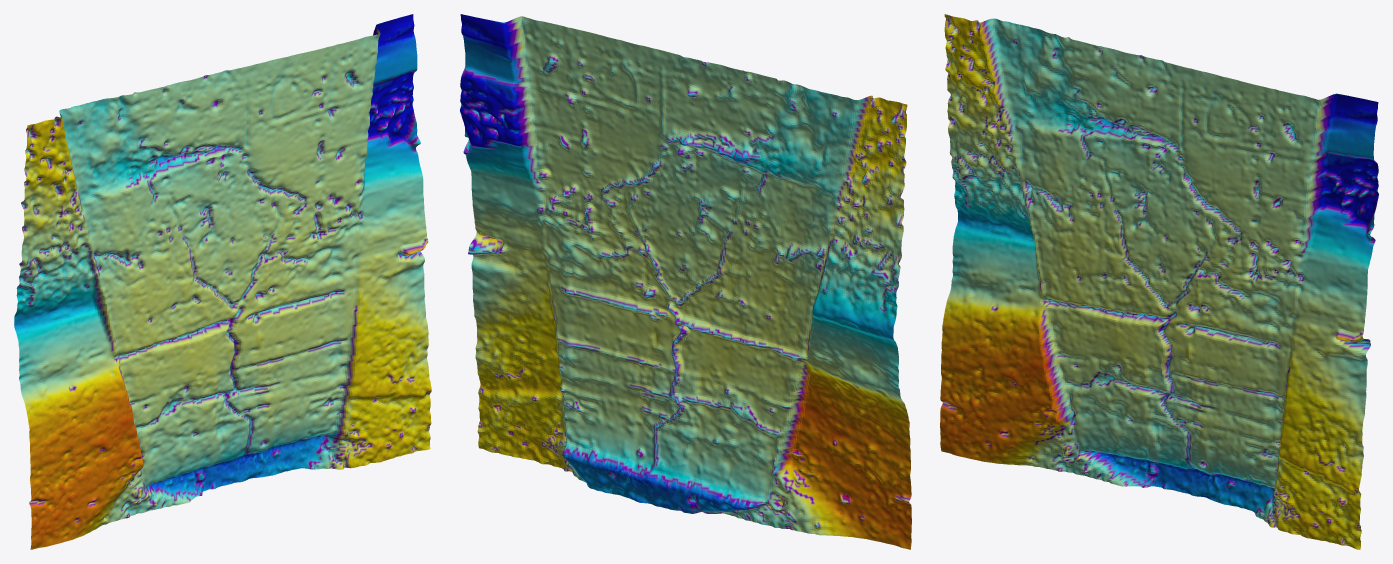
The picture shows the model from 3 angles, left to right: view 1: azimuth 30°, elevation 25°; view 2: azimuth 150°, elevation 25°; view 3: azimuth 330°, elevation 25°; orthographic projection. The views are drawn at different scales.
Visible parts, largest first — view 1: world; view 2: world; view 3: world.
Part boxes in pixels (<box>): world: <box>14,14,431,549</box>; world: <box>460,14,911,549</box>; world: <box>940,14,1378,549</box>.
Bounding box in the file's own units: 299 × 299 × 30.
